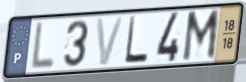3: (61, 19, 90, 69)
4: (154, 11, 181, 66)
L: (29, 20, 57, 72), (123, 15, 149, 66)
M: (180, 7, 221, 65)
V: (95, 15, 126, 68)
